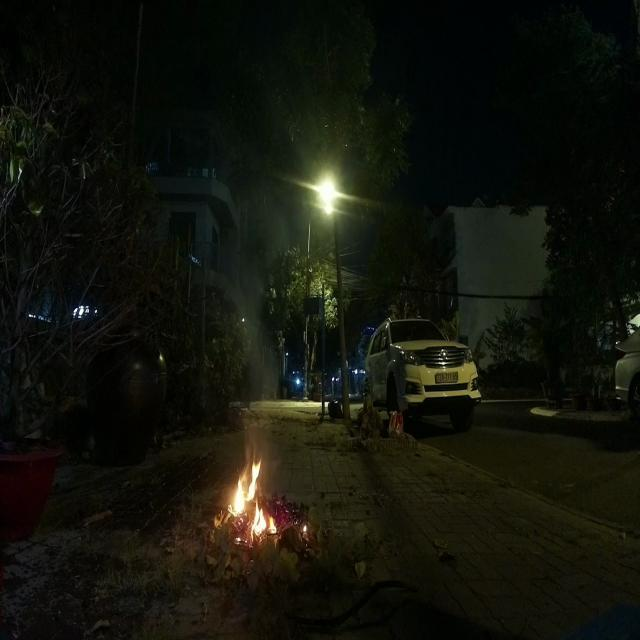Fire: (212, 444, 283, 554)
